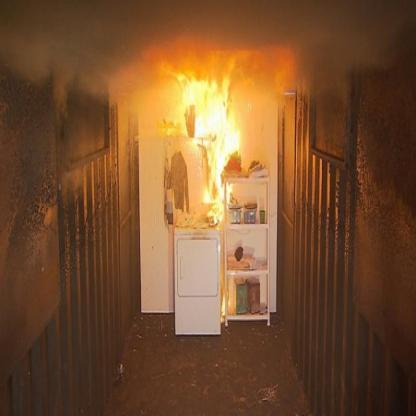fire: (172, 69, 246, 223)
smoke: (2, 2, 416, 107)
